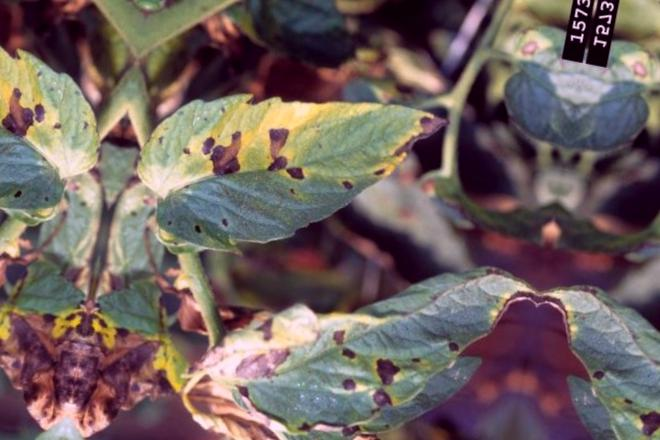Tomato Early blight leaf: (132, 39, 434, 296), (196, 213, 520, 440)
